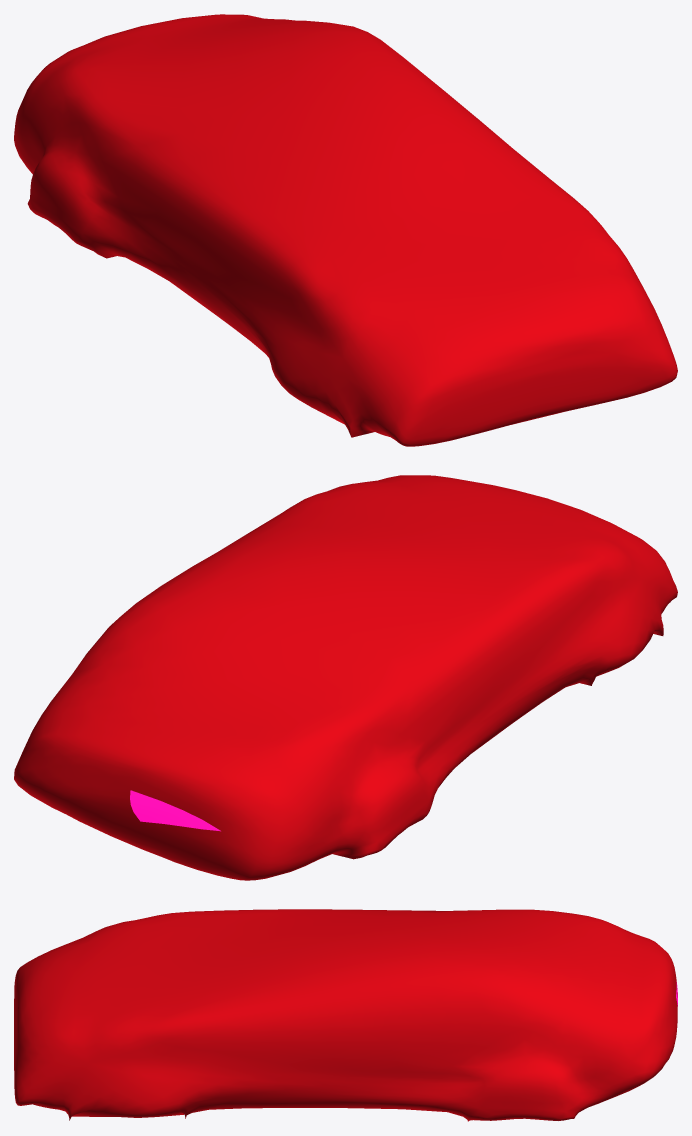
3 renders of one model, top to bottom at view 1: azimuth 30°, elevation 25°; view 2: azimuth 150°, elevation 25°; view 3: azimuth 270°, elevation 25°, orthographic. The views are drawn at different scales.
Visible parts, largest first — view 1: Cube; view 2: Cube; view 3: Cube.
Boxes of the visible parts, <box> form: Cube: <box>14,14,677,446</box>; Cube: <box>14,475,677,880</box>; Cube: <box>14,909,677,1121</box>.
Bounding box in the file's own units: 144 × 62.96 × 287.
